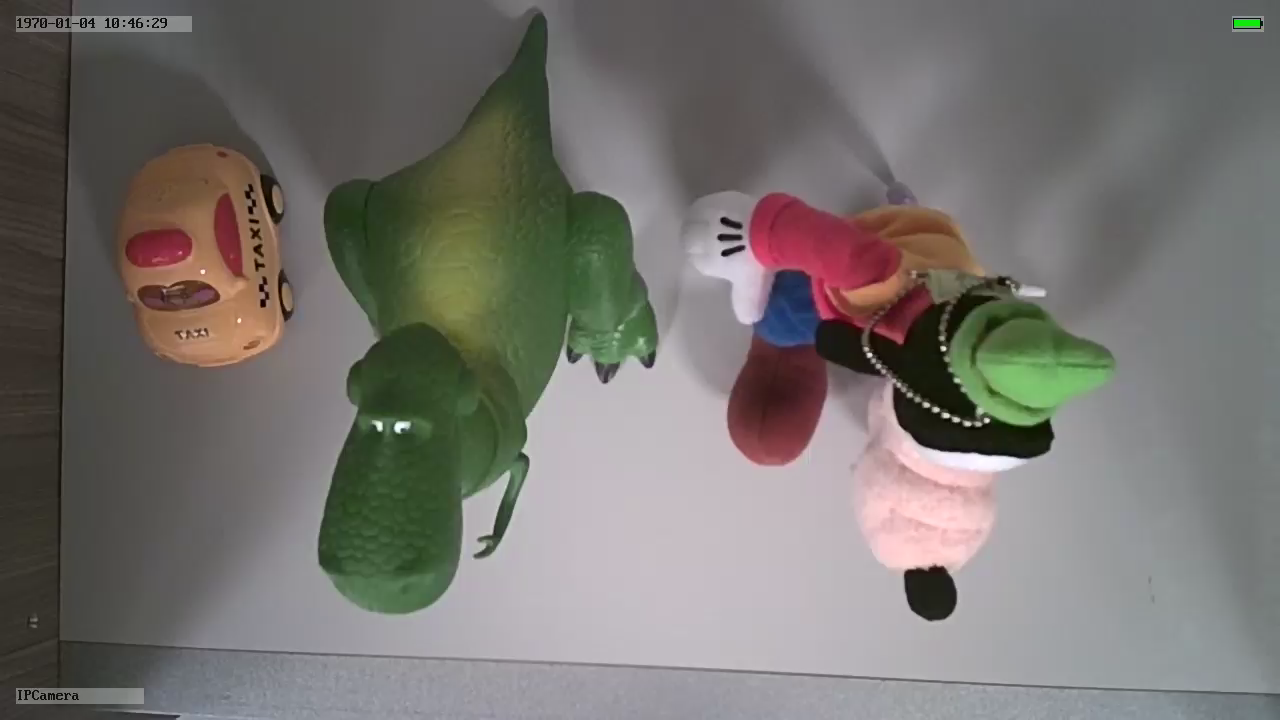goofy: (683, 183, 1113, 630)
